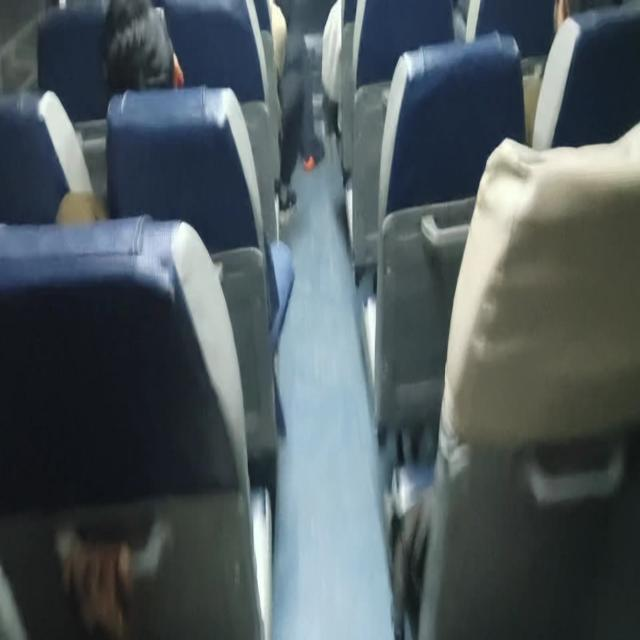person: (392, 119, 639, 637), (270, 1, 324, 210), (54, 522, 135, 637), (100, 0, 184, 94)
